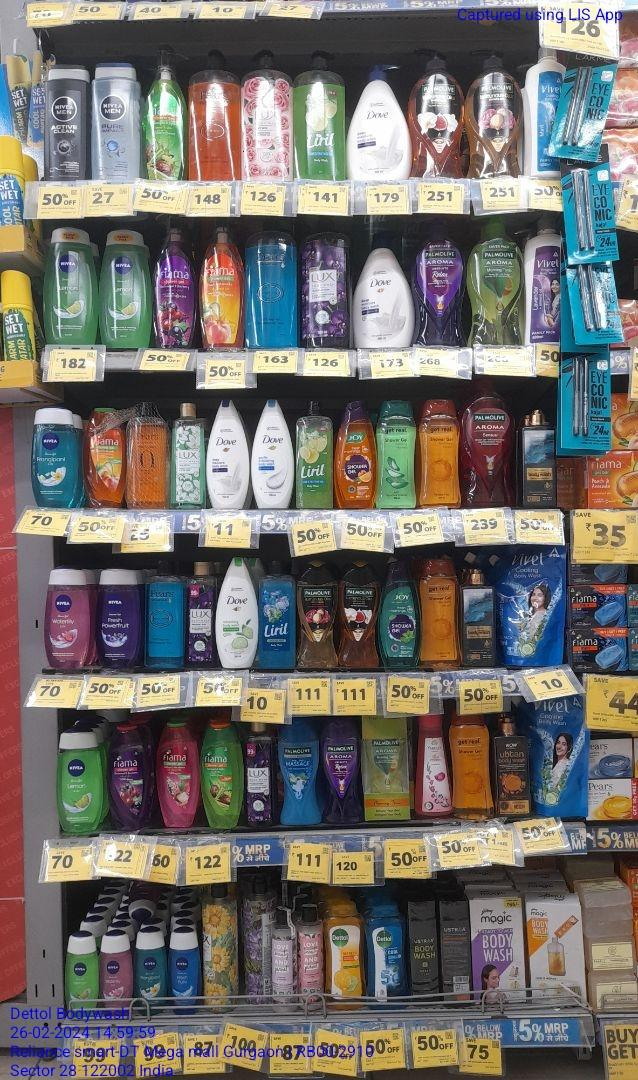Dettol_Bodywash_Cool: (364, 903, 411, 1009)
Dettol_Bodywash_Refresh: (326, 902, 367, 1010)
Dove_Deep_Moisture_Body_Wash_250ML: (208, 399, 250, 510)
Dove_Gentle_Exfoliating_Body_Wash_250ML: (253, 397, 294, 509)
Dove_Refreshing_Body_Wash_250ML: (215, 558, 257, 670)
Fiama_Shower_Gel_Lemongrass_and_Jojoba_250ML: (200, 722, 242, 828)
Fiama_Shower_Gel_Patchouli_and_Macadamia_250ML: (156, 718, 200, 828)
Get_Real_Shower_Gel_Moisturising_Glycerin_300ML: (416, 556, 460, 669), (450, 712, 494, 822), (419, 397, 460, 507)
Lux_Black_Orchid_Scent_and_Juniper_Oil_Body_Wash_245ML: (187, 559, 215, 668)
Nivea_Shower_Gel_Frangipani_and_Oil_250ML: (31, 405, 83, 508)
Nivea_Shower_Gel_Fresh_Powerfruit_250ML: (95, 567, 140, 668)
Nivea_Shower_Gel_Lemon_and_Oil_250ML: (98, 226, 152, 350), (43, 226, 97, 345), (58, 728, 105, 833)
Nivea_Shower_Gel_Waterlily_and_Oil_250ML: (45, 568, 90, 668), (101, 928, 136, 1012)
Palmolive_Luminous_Oils_Invigorating_Macadamia_Oil_With_Peony_250ML: (297, 561, 340, 671)
Palmolive_Luminous_Oils_With_White_Orchid_Shower_Gel_250ML: (340, 555, 381, 670)
